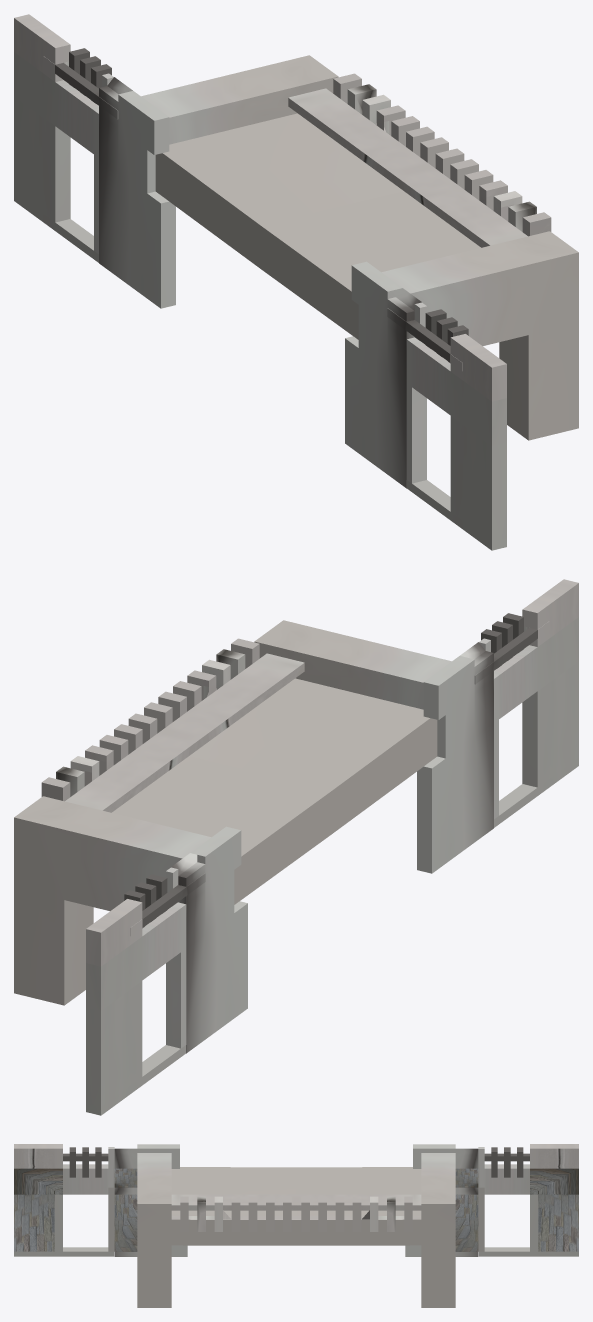
File: frontTisch1fbx.fbx
3 views of the same model, one above another, from view 1: azimuth 30°, elevation 25°; view 2: azimuth 150°, elevation 25°; view 3: azimuth 270°, elevation 25° (orthographic). The views are drawn at different scales.
Parts seen in each view (by area): view 1: Cube.001; view 2: Cube.001; view 3: Cube.001.
Boxes of the visible parts, <box> form: Cube.001: <box>14,14,578,550</box>; Cube.001: <box>14,579,578,1115</box>; Cube.001: <box>14,1144,578,1307</box>.
Bounding box in the file's own units: 2387 × 2087 × 9850.
2 materials, 2 textured.
